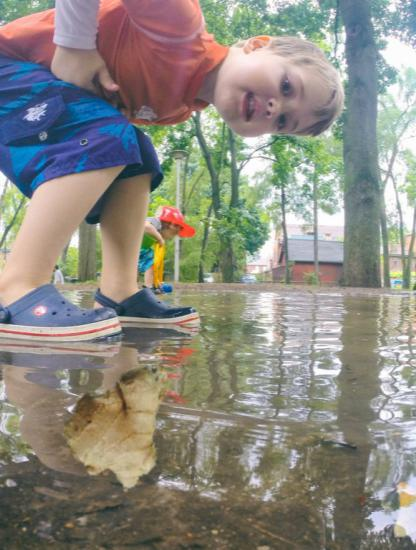Ginger: (61, 355, 194, 488)
